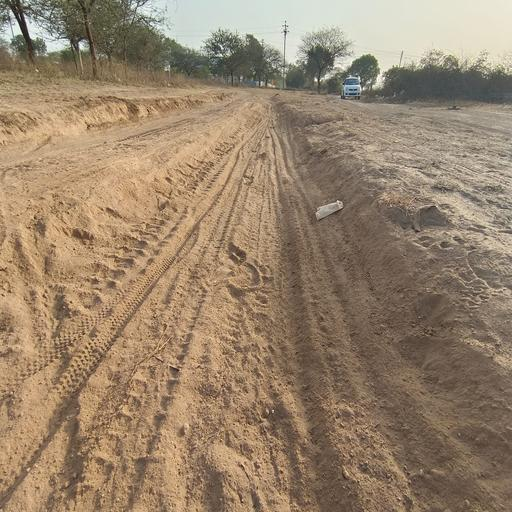vehicle_track: (0, 111, 429, 512)
